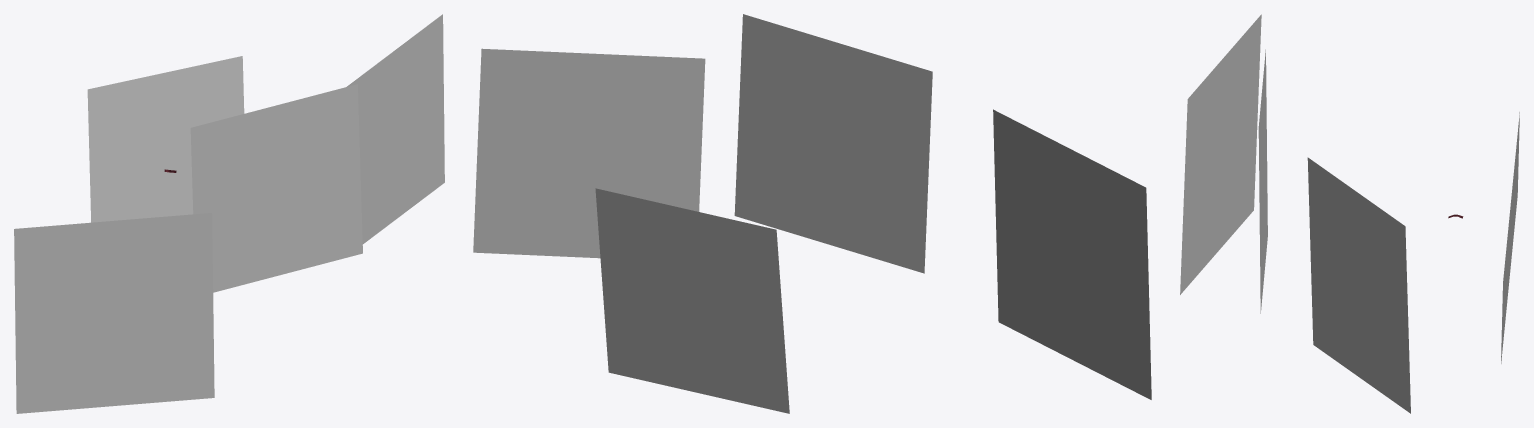
The model's file is FitPikachu07STRAP.dae.
3 renders of one model, left to right at view 1: azimuth 30°, elevation 25°; view 2: azimuth 150°, elevation 25°; view 3: azimuth 270°, elevation 25°, orthographic. The views are drawn at different scales.
Parts seen in each view (by area): view 1: Plane_001, Plane_003, Plane, Plane_002; view 2: Plane_002, Plane_003, Plane, Plane_001; view 3: Plane_002, Plane_001, Plane_003, Plane.
Part boxes in pixels (x1,y1,x2,y2): Plane_001: (14,213,214,413); Plane_003: (190,84,362,292); Plane: (87,56,244,222); Plane_002: (347,14,444,244); Plane_002: (473,48,705,258); Plane_003: (734,14,932,273); Plane: (595,188,789,413); Plane_001: (993,109,1151,399); Plane_002: (1307,157,1410,413); Plane_001: (1180,14,1261,294); Plane_003: (1258,49,1267,313); Plane: (1501,112,1519,363).
Size of the model in its own units: 33.56 by 18.25 by 15.65.
4 materials, 1 textured.
